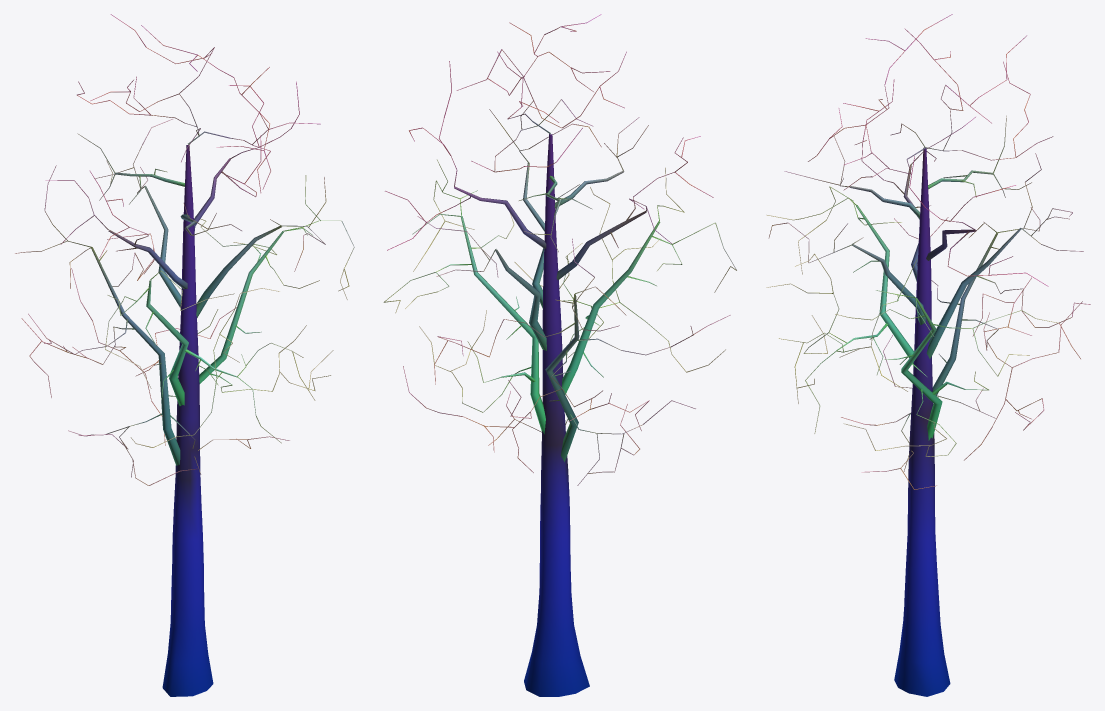
File: oak-field-c.glb
3 renders of one model, left to right at view 1: azimuth 30°, elevation 25°; view 2: azimuth 150°, elevation 25°; view 3: azimuth 270°, elevation 25°, orthographic. The views are drawn at different scales.
Parts seen in each view (by area): view 1: bark; view 2: bark; view 3: bark.
Boxes of the visible parts, x1,y1,x2,y2 form: bark: [15, 14, 354, 696]; bark: [383, 14, 736, 696]; bark: [766, 14, 1090, 696].
Size of the model in its own units: 6.78 by 14.06 by 6.32.
